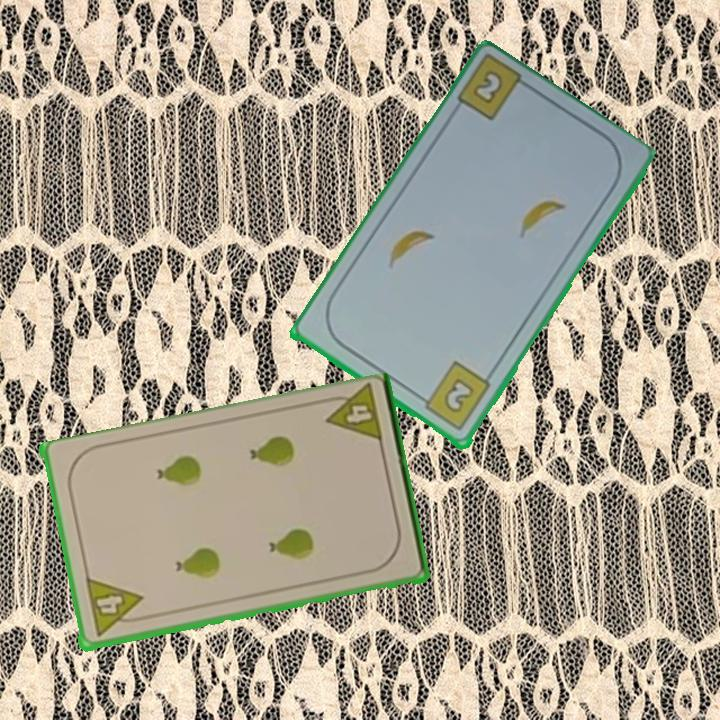2b: (414, 358, 494, 435), (469, 66, 507, 108)
4p: (318, 383, 386, 448), (82, 575, 148, 640)
